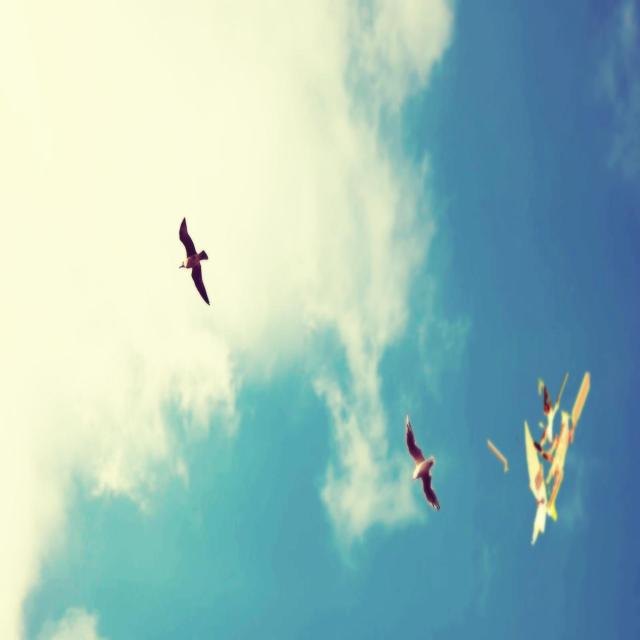airplane: (524, 368, 591, 543)
